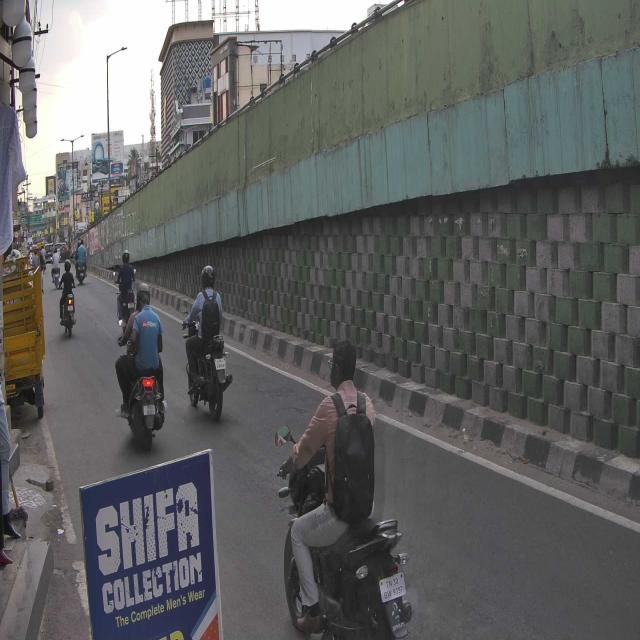double_rider: (114, 279, 170, 453)
single_rider: (272, 335, 415, 640), (182, 261, 233, 424)
